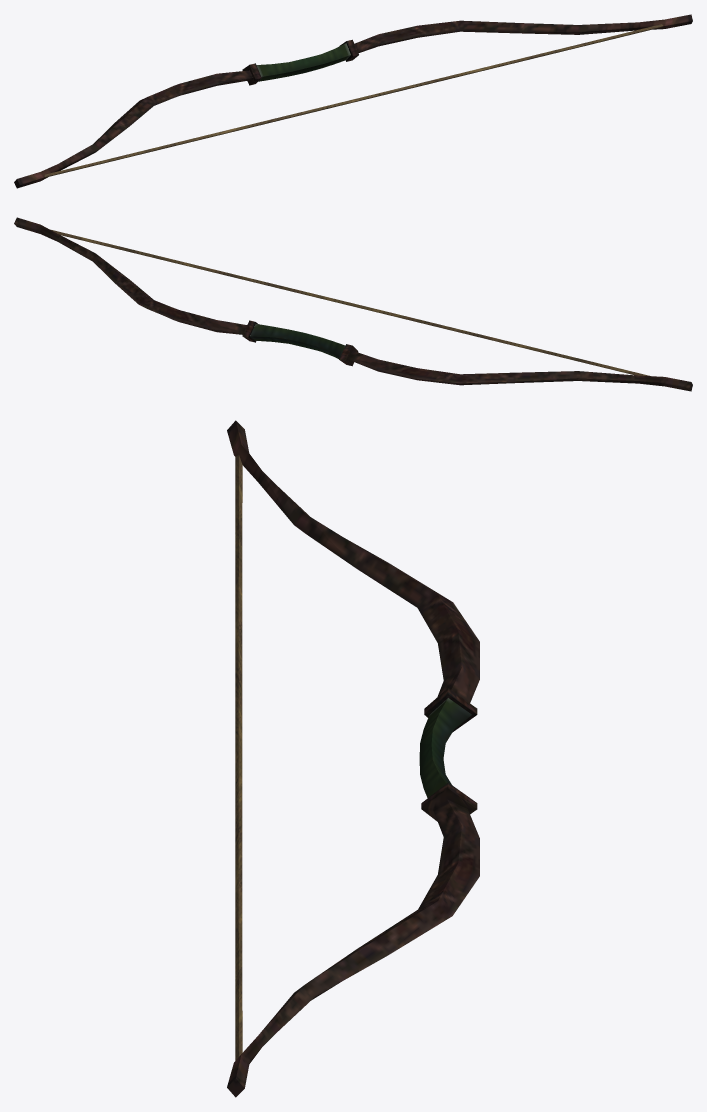
File: luk4.glb
3 renders of one model, top to bottom at view 1: azimuth 30°, elevation 25°; view 2: azimuth 150°, elevation 25°; view 3: azimuth 270°, elevation 25°, orthographic. The views are drawn at different scales.
Visible parts, largest first — view 1: A zm_Morph; view 2: A zm_Morph; view 3: A zm_Morph.
Boxes of the visible parts, x1,y1,x2,y2 form: A zm_Morph: (14,14,692,188); A zm_Morph: (14,217,692,391); A zm_Morph: (227,420,479,1097).
Bounding box in the file's own units: 2.01 × 0.0592 × 0.3263.
3 materials, 3 textured.
